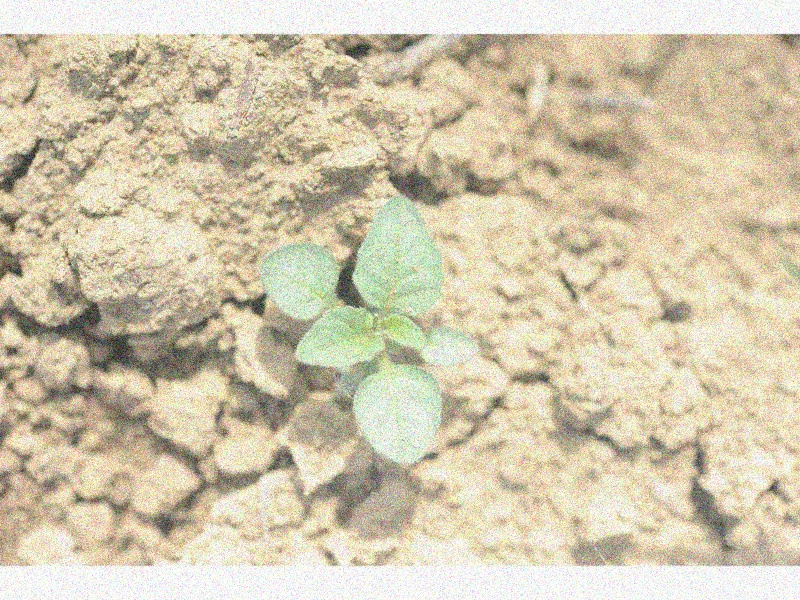nightshade: (262, 197, 477, 465)
